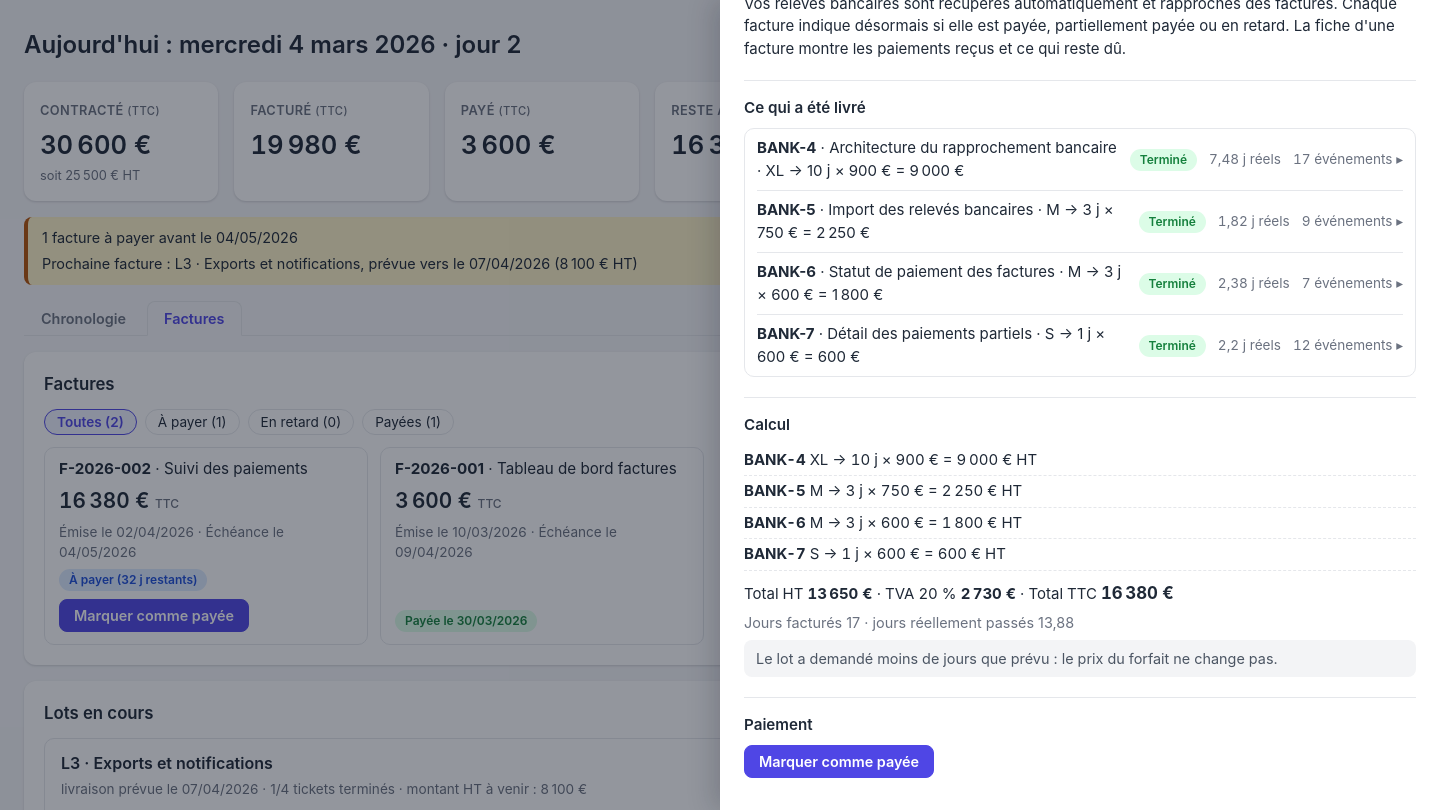
Test: ClientPage › the invoice drawer › pays from the drawer and shows the new payment after the refetch
(page scrolled)
Click the button "Marquer comme payée".
click(839, 762)  # box [744,745,934,778]
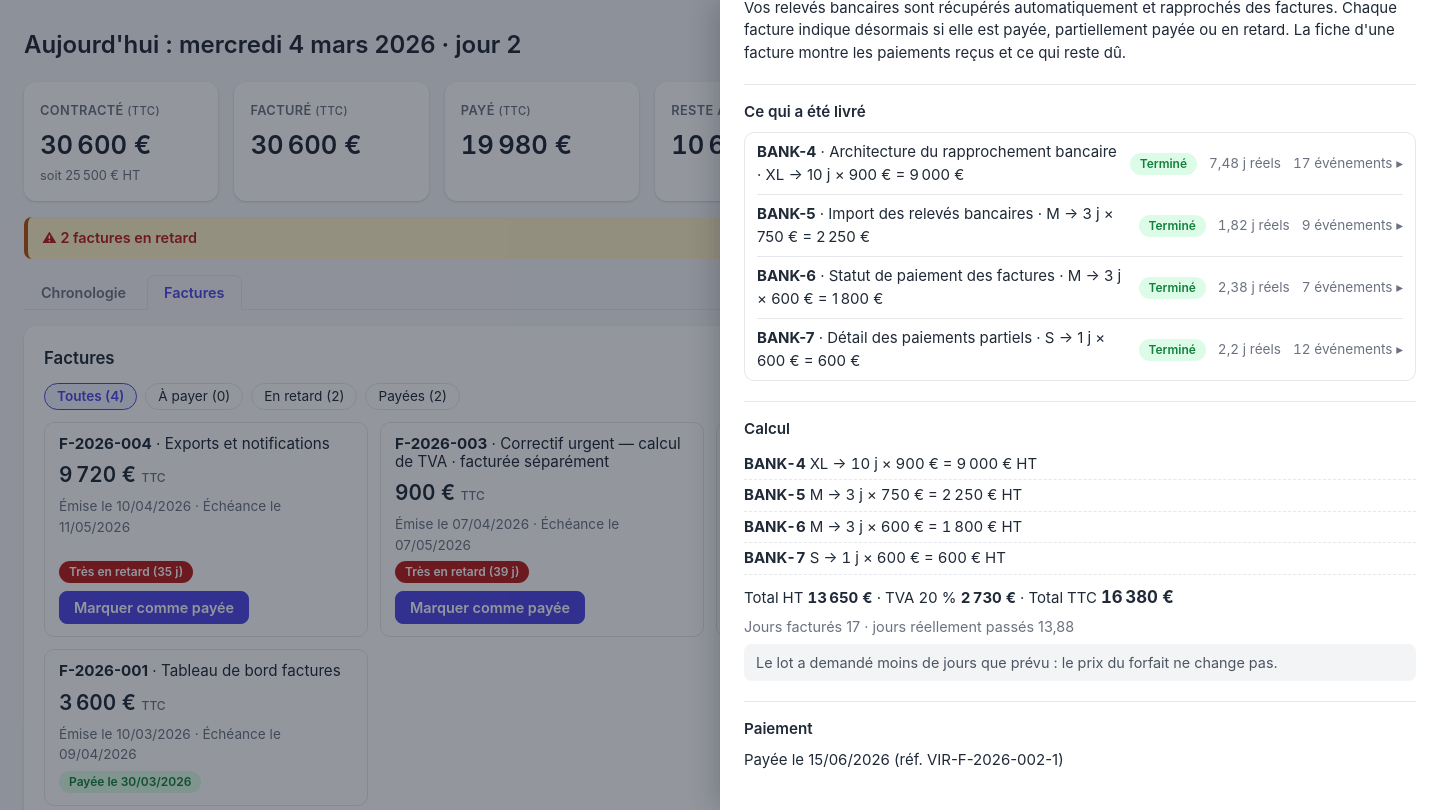
Expected: the text "Payée le 15/06/2026 (réf. VIR-F-2026-002-1)" is shown, [744,750,1064,769]
